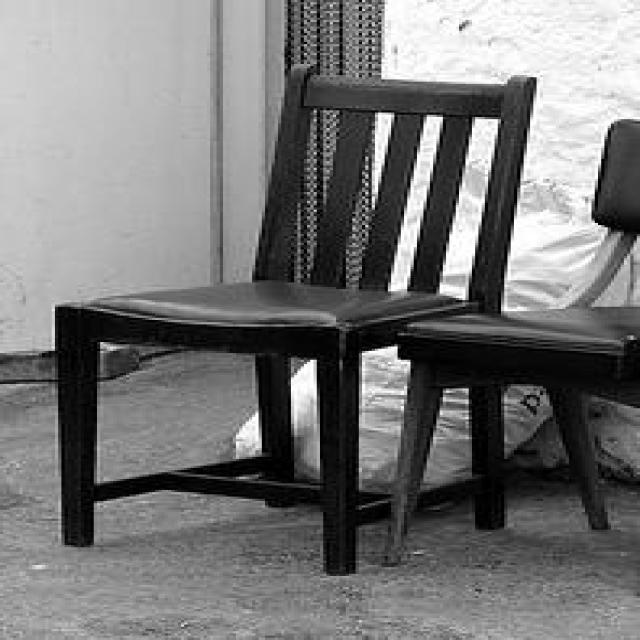chair: (51, 59, 536, 574), (381, 115, 640, 567)
